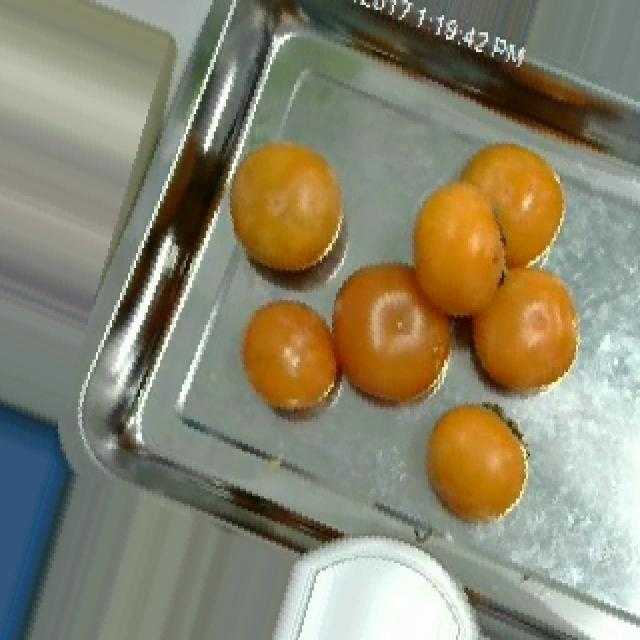Fruit: (204, 112, 370, 320), (316, 236, 482, 442), (444, 238, 604, 422), (428, 121, 586, 292), (220, 276, 368, 447), (404, 382, 546, 543)
